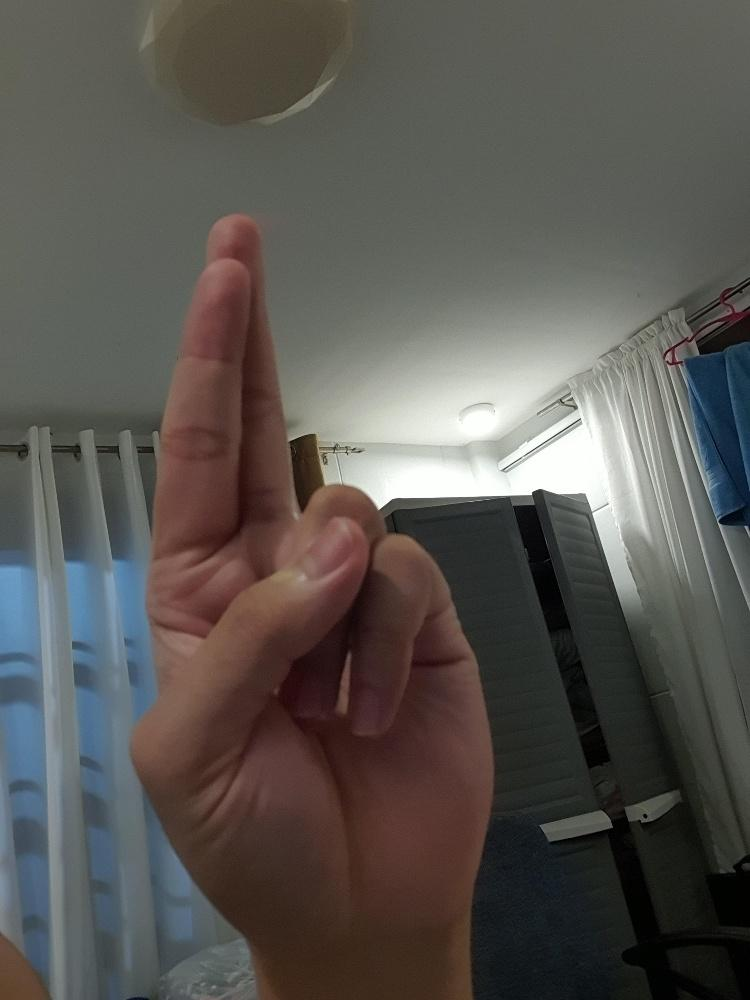r: (121, 208, 502, 955)
